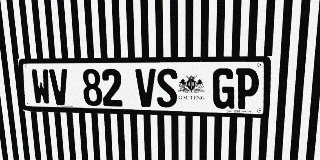2: (101, 69, 122, 106)
8: (82, 69, 103, 106)
G: (212, 68, 235, 109)
P: (235, 68, 259, 109)
S: (156, 68, 177, 108)
V: (135, 69, 156, 107), (49, 69, 70, 105)
W: (31, 69, 51, 105)
